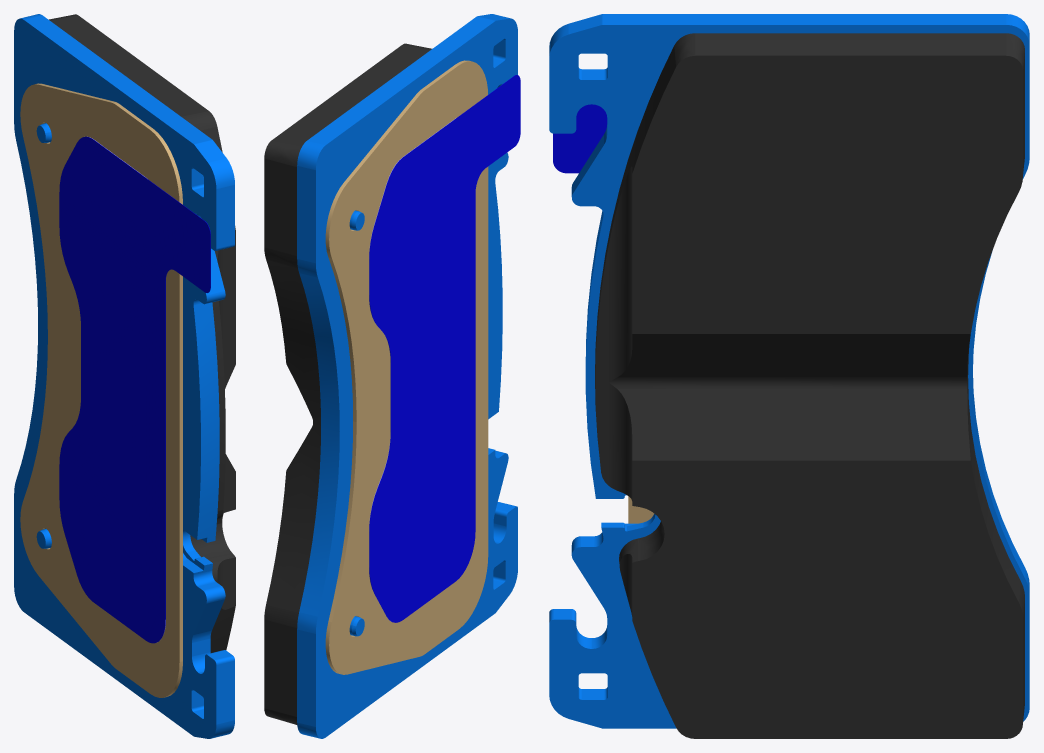
3 renders of one model, left to right at view 1: azimuth 30°, elevation 25°; view 2: azimuth 150°, elevation 25°; view 3: azimuth 270°, elevation 25°, orthographic. The views are drawn at different scales.
Visible parts, largest first — view 1: empty_6, empty_3, empty_4, empty_2; view 2: empty_6, empty_3, empty_4, empty_2, empty_5; view 3: empty_2, empty_3, empty_6.
Boxes of the visible parts, box(x1,y1,x2,y2) form: empty_6: box(59, 136, 210, 643); empty_3: box(14, 14, 234, 738); empty_4: box(20, 83, 182, 697); empty_2: box(49, 14, 235, 652); empty_6: box(369, 75, 520, 622); empty_3: box(297, 14, 517, 738); empty_4: box(325, 60, 488, 674); empty_2: box(264, 43, 432, 724); empty_5: box(369, 118, 455, 619); empty_2: box(595, 33, 1024, 738); empty_3: box(549, 14, 1029, 728); empty_6: box(553, 104, 607, 173).
Bounding box in the file's own units: 18.55 × 166 × 103.
